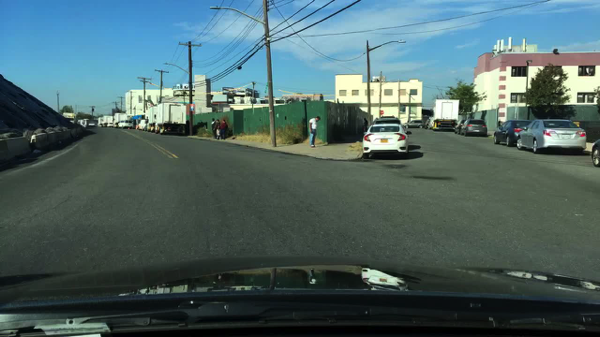car: (516, 119, 587, 155), (361, 123, 411, 157), (493, 118, 533, 147), (460, 118, 488, 137), (589, 137, 599, 167), (402, 119, 426, 129), (372, 118, 401, 126), (453, 119, 465, 134), (137, 119, 147, 131), (115, 120, 125, 128), (125, 120, 133, 129), (378, 115, 395, 119), (88, 121, 96, 128), (106, 122, 114, 128)
person: (307, 116, 321, 147), (218, 119, 229, 140), (215, 118, 222, 139), (211, 118, 217, 138), (362, 117, 368, 132)
truck: (158, 102, 187, 136), (432, 99, 458, 128), (146, 106, 159, 133), (113, 113, 126, 125), (103, 115, 113, 127), (98, 118, 103, 127)
